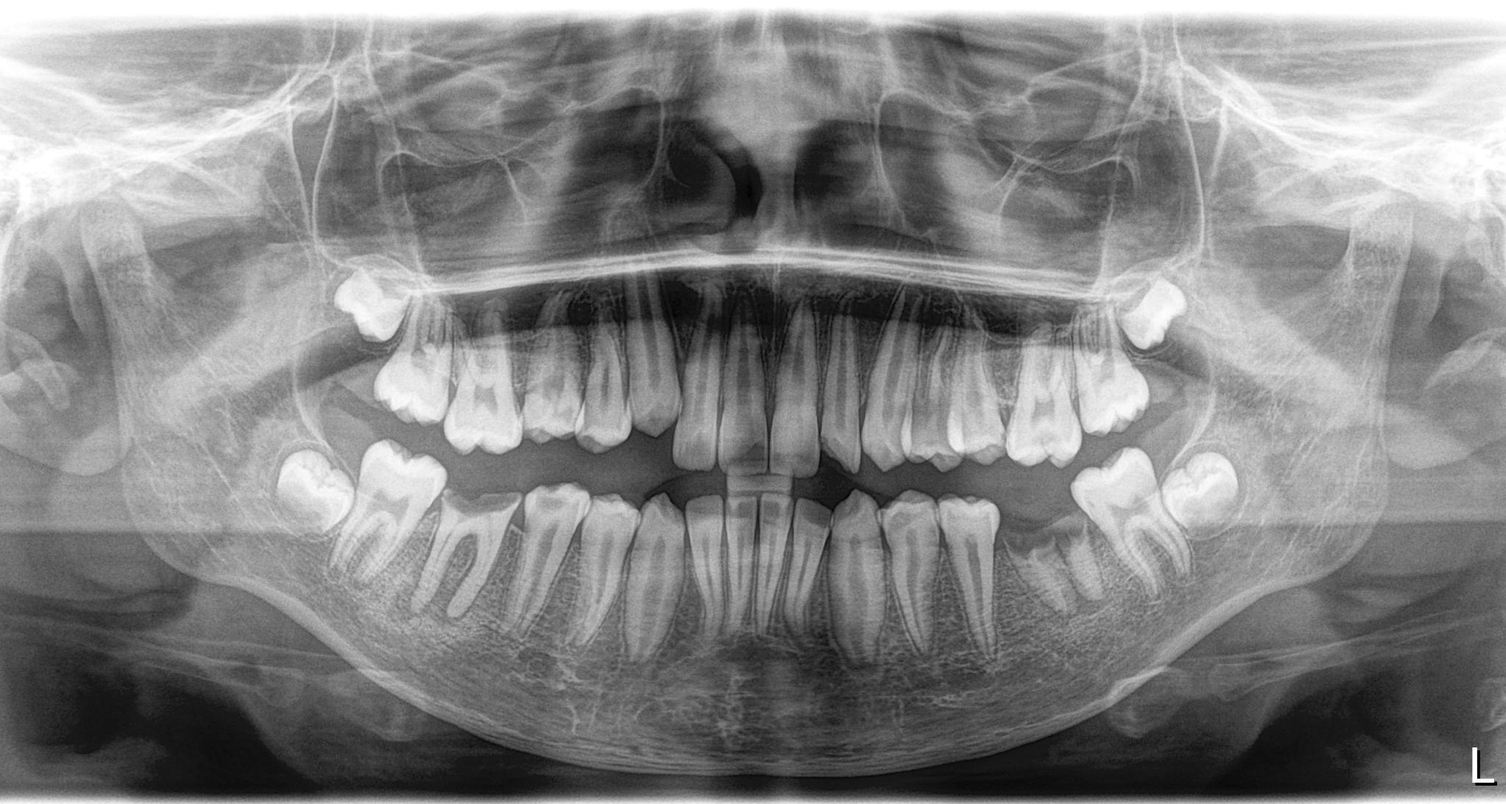Dental Caries: (886, 511, 939, 565), (535, 362, 582, 417), (522, 496, 590, 534)
Impacted Third Molar: (1166, 445, 1283, 549), (276, 424, 342, 561), (316, 261, 417, 346), (1121, 285, 1227, 361)
Periapical Lesion: (436, 503, 502, 631), (336, 525, 411, 594)
Retained Root: (1002, 492, 1110, 612)
